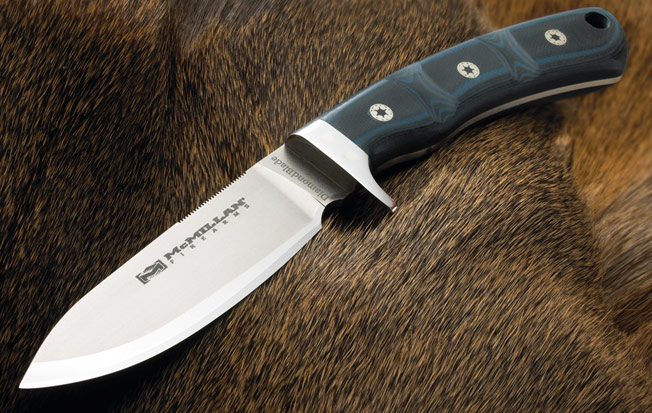knife: (8, 131, 359, 397)
